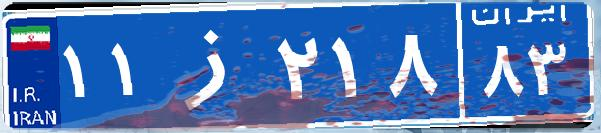1: (330, 28, 385, 110), (57, 26, 110, 107), (110, 28, 158, 105)
2: (273, 28, 330, 110)
3: (525, 38, 570, 115)
8: (385, 28, 445, 110), (475, 38, 525, 113)
ز: (158, 15, 273, 115)
